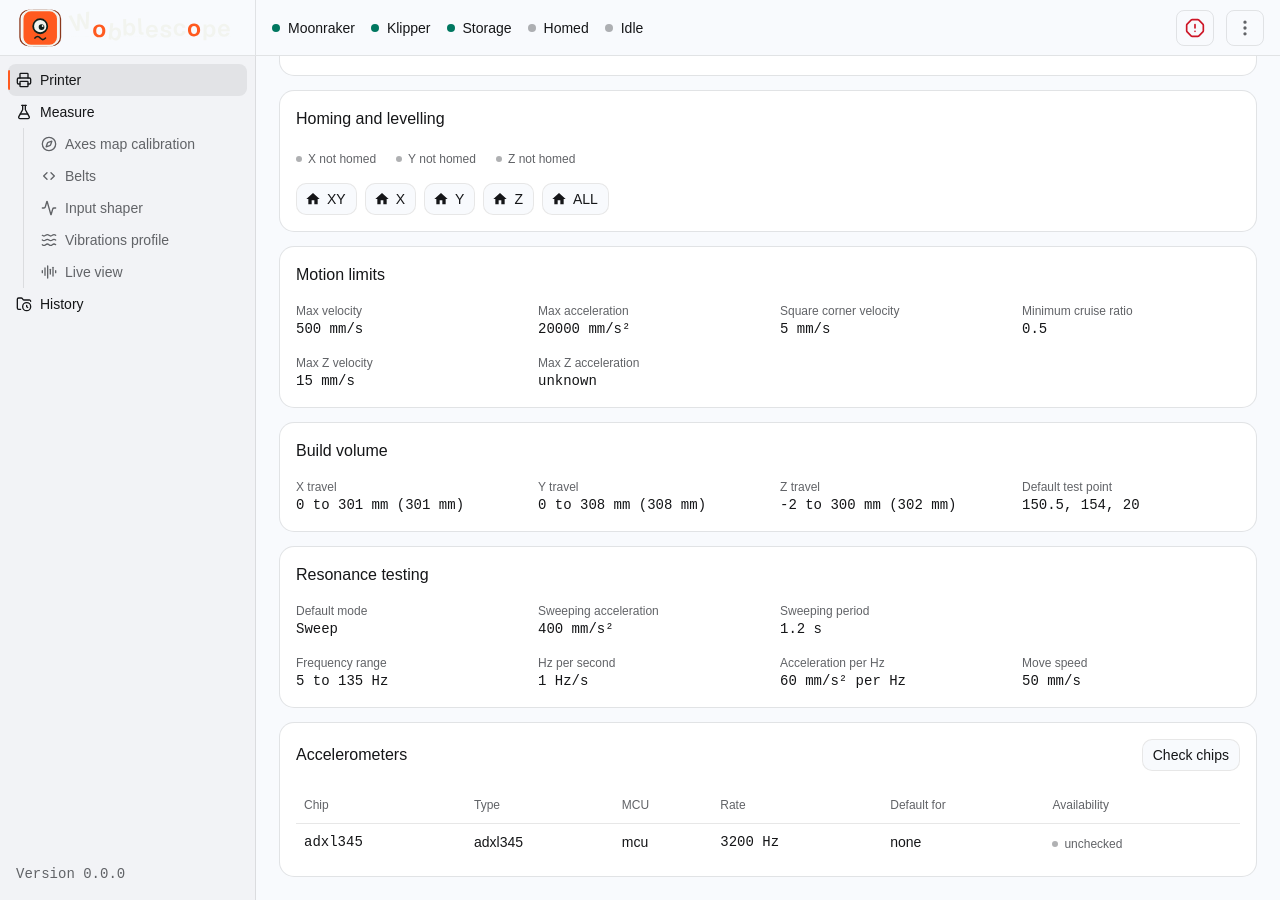
Test case: a failed chip check › is shown as a toast
This screenshot has width=1280, height=900.
(page scrolled)
Click the button "Check chips". click: {"x": 1191, "y": 755}
box: [1142,739,1240,771]
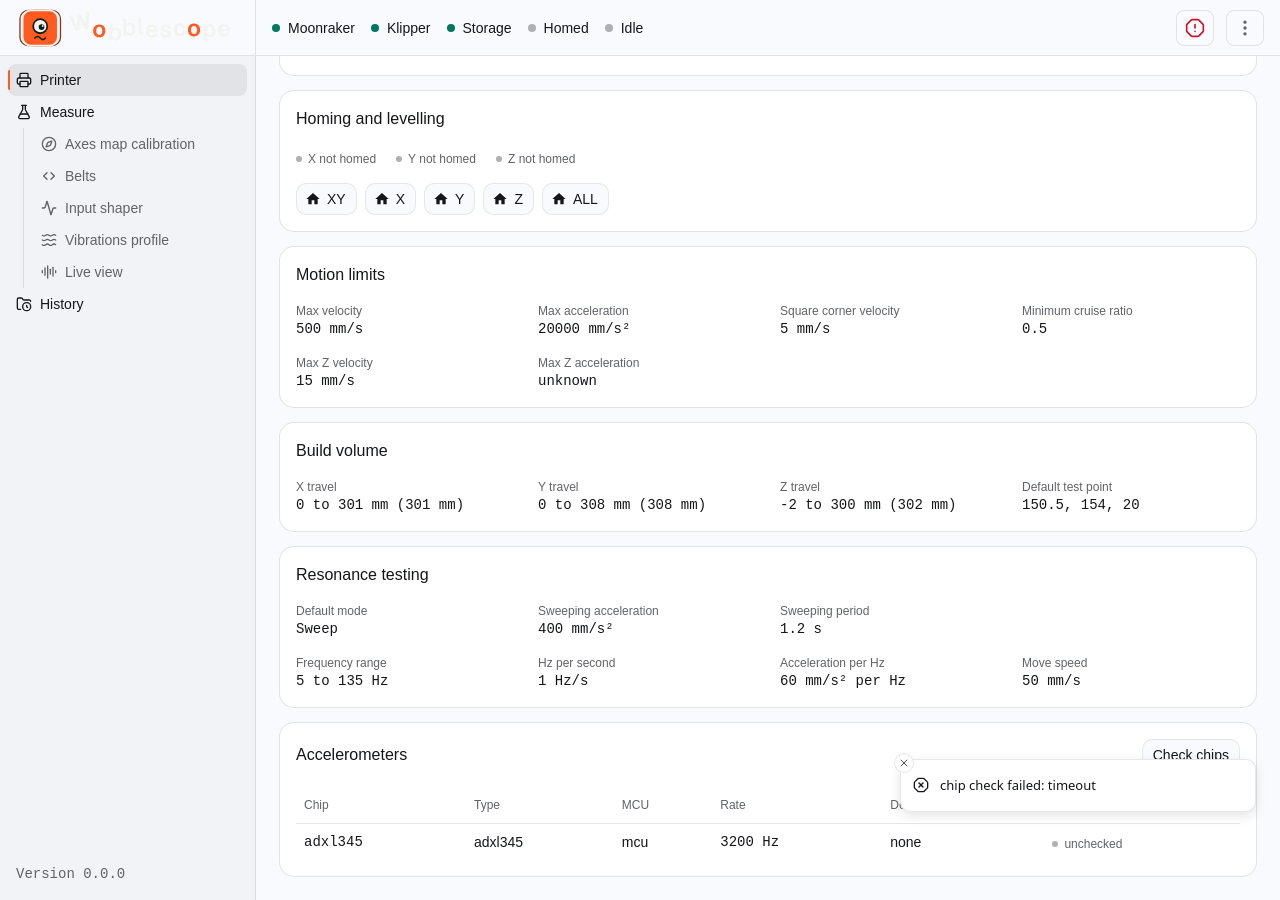
Expected: the text "chip check failed: timeout" is shown, [940,776,1096,795]
